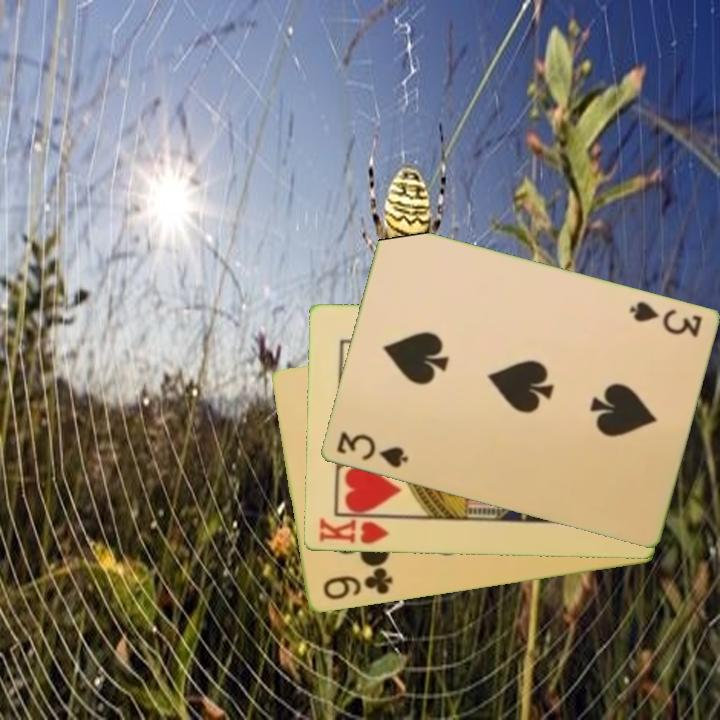3s: (625, 298, 705, 341), (333, 428, 411, 471)
9c: (319, 565, 396, 603)
Kh: (315, 513, 398, 547)
